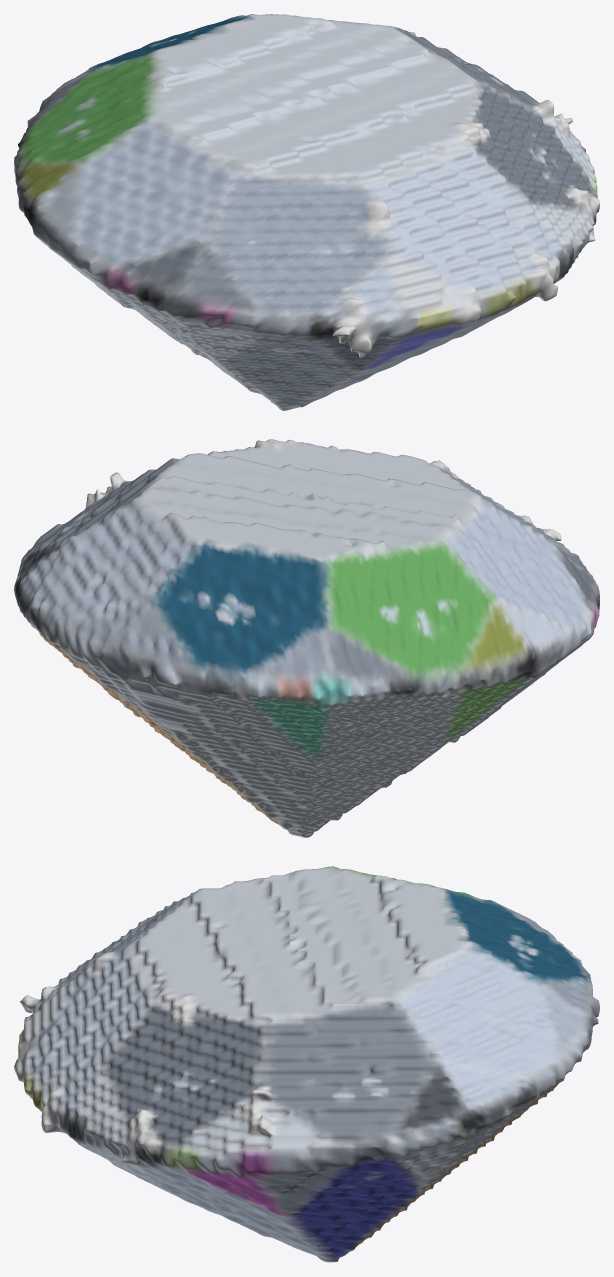
File: diamond.glb
3 views of the same model, one above another, from view 1: azimuth 30°, elevation 25°; view 2: azimuth 150°, elevation 25°; view 3: azimuth 270°, elevation 25° (orthographic).
Parts seen in each view (by area): view 1: diamond; view 2: diamond; view 3: diamond.
Boxes of the visible parts, left/top/right/bottom form: diamond: left=14, top=14, right=599, bottom=410; diamond: left=14, top=439, right=599, bottom=837; diamond: left=14, top=866, right=599, bottom=1262.
Bounding box in the file's own units: 0.0989 × 0.0626 × 0.1.
